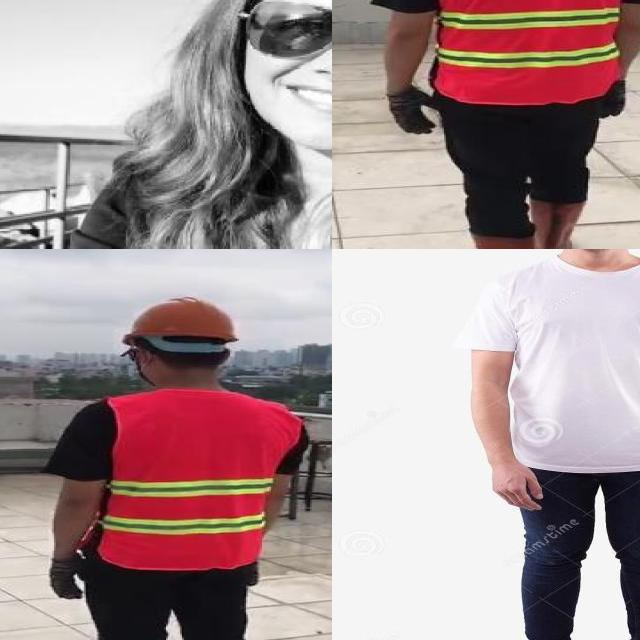boots: (529, 195, 582, 249)
face_nomask: (259, 1, 332, 132)
glasses: (251, 0, 332, 60)
hand_glove: (380, 90, 437, 133), (47, 554, 88, 598), (597, 80, 627, 117)
hand_noglove: (469, 439, 552, 516)
head_helmet: (120, 296, 239, 344)
person: (30, 292, 308, 640), (458, 249, 640, 640), (52, 0, 332, 249), (367, 0, 640, 249)
vest: (105, 390, 303, 569), (430, 0, 636, 103)
